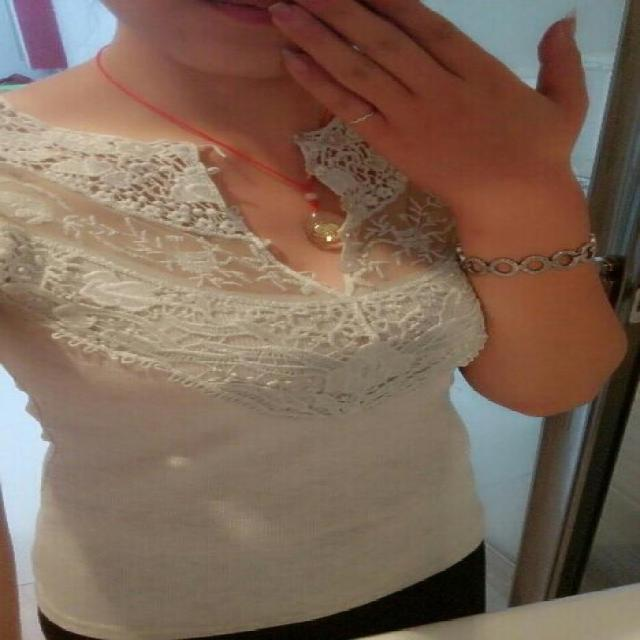vest: (7, 80, 483, 613)
